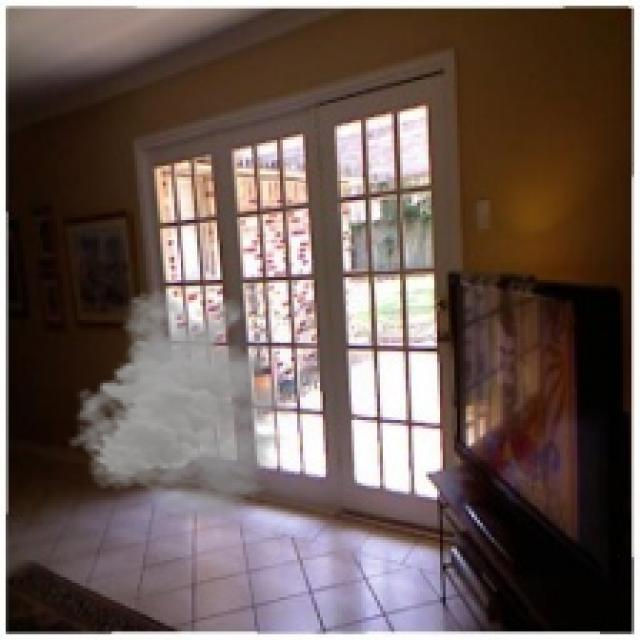smoke: (66, 288, 306, 523)
